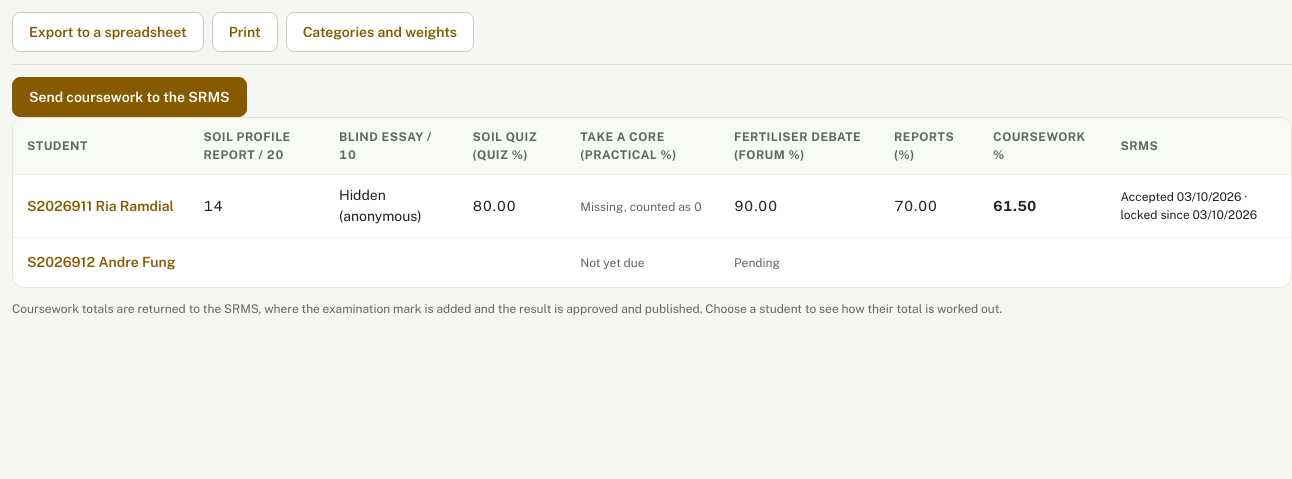
it: the gradebook (items 2.28 to 2.31, 3.18) › sends the coursework to the SRMS and shows what each student's total became
This screenshot has width=1292, height=479.
Click the button "Send coursework to the SRMS": (129, 97) top-left (12, 77), bottom-right (247, 117)
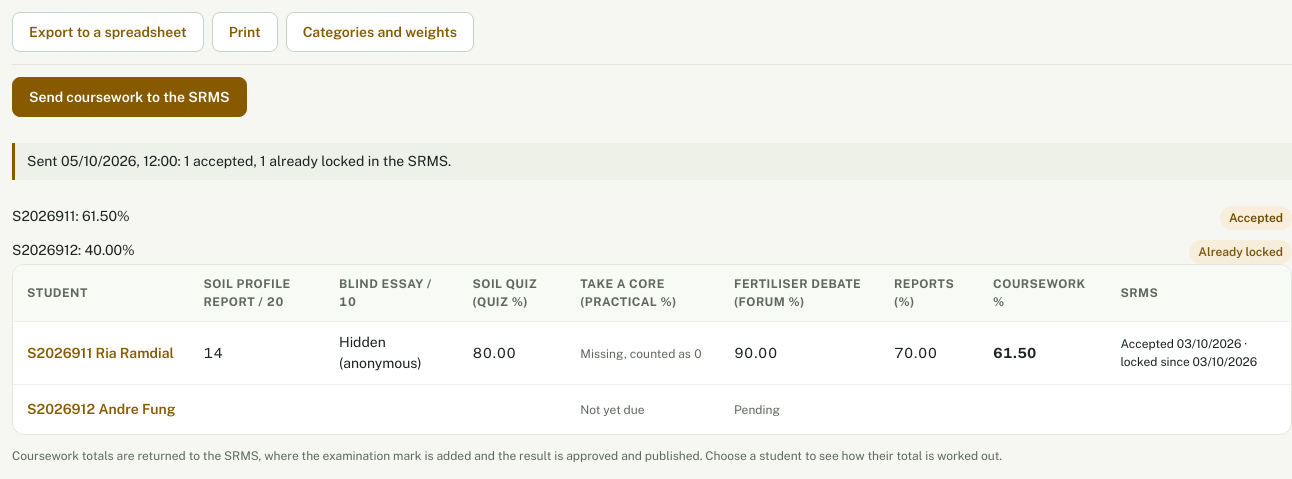
expect the text "1 accepted, 1 already locked in the SRMS" is shown: met, box top-left (12, 143), bottom-right (1291, 180)
expect the list items read "S2026911: 61.50%Accepted", "S2026912: 40.00%Already locked", in this order: met, box top-left (12, 206), bottom-right (1291, 230); top-left (12, 240), bottom-right (1291, 264)
